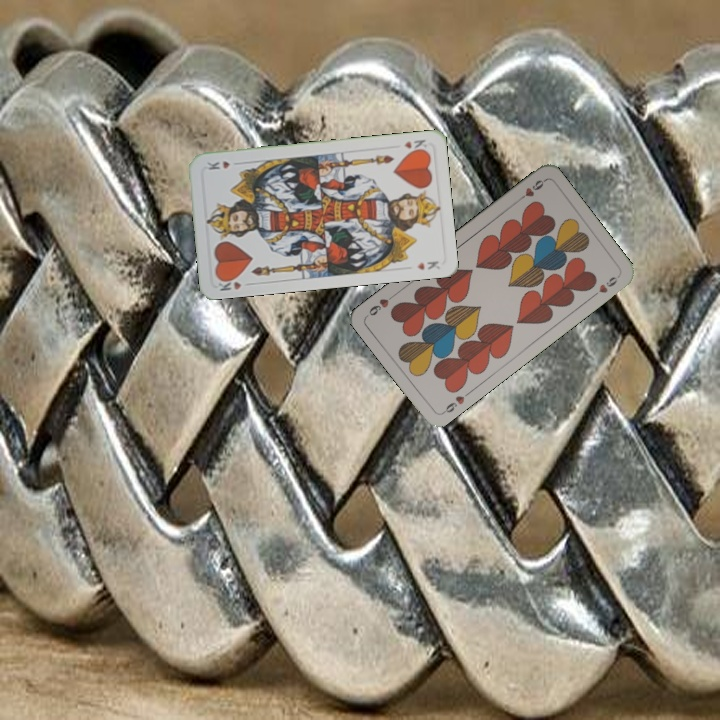H9: (438, 388, 473, 417), (513, 176, 548, 204)
HK: (214, 273, 254, 293), (400, 135, 429, 155)
